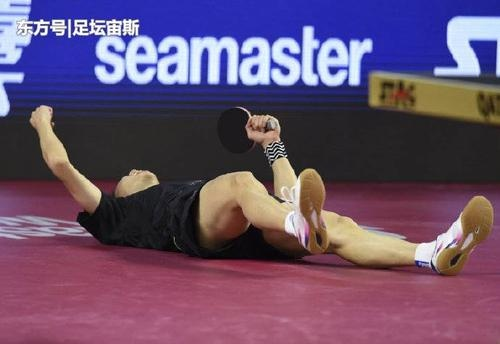falling: (10, 97, 497, 275)
